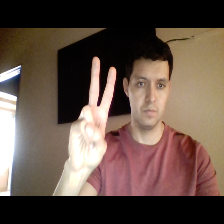KP: (67, 53, 120, 170)
